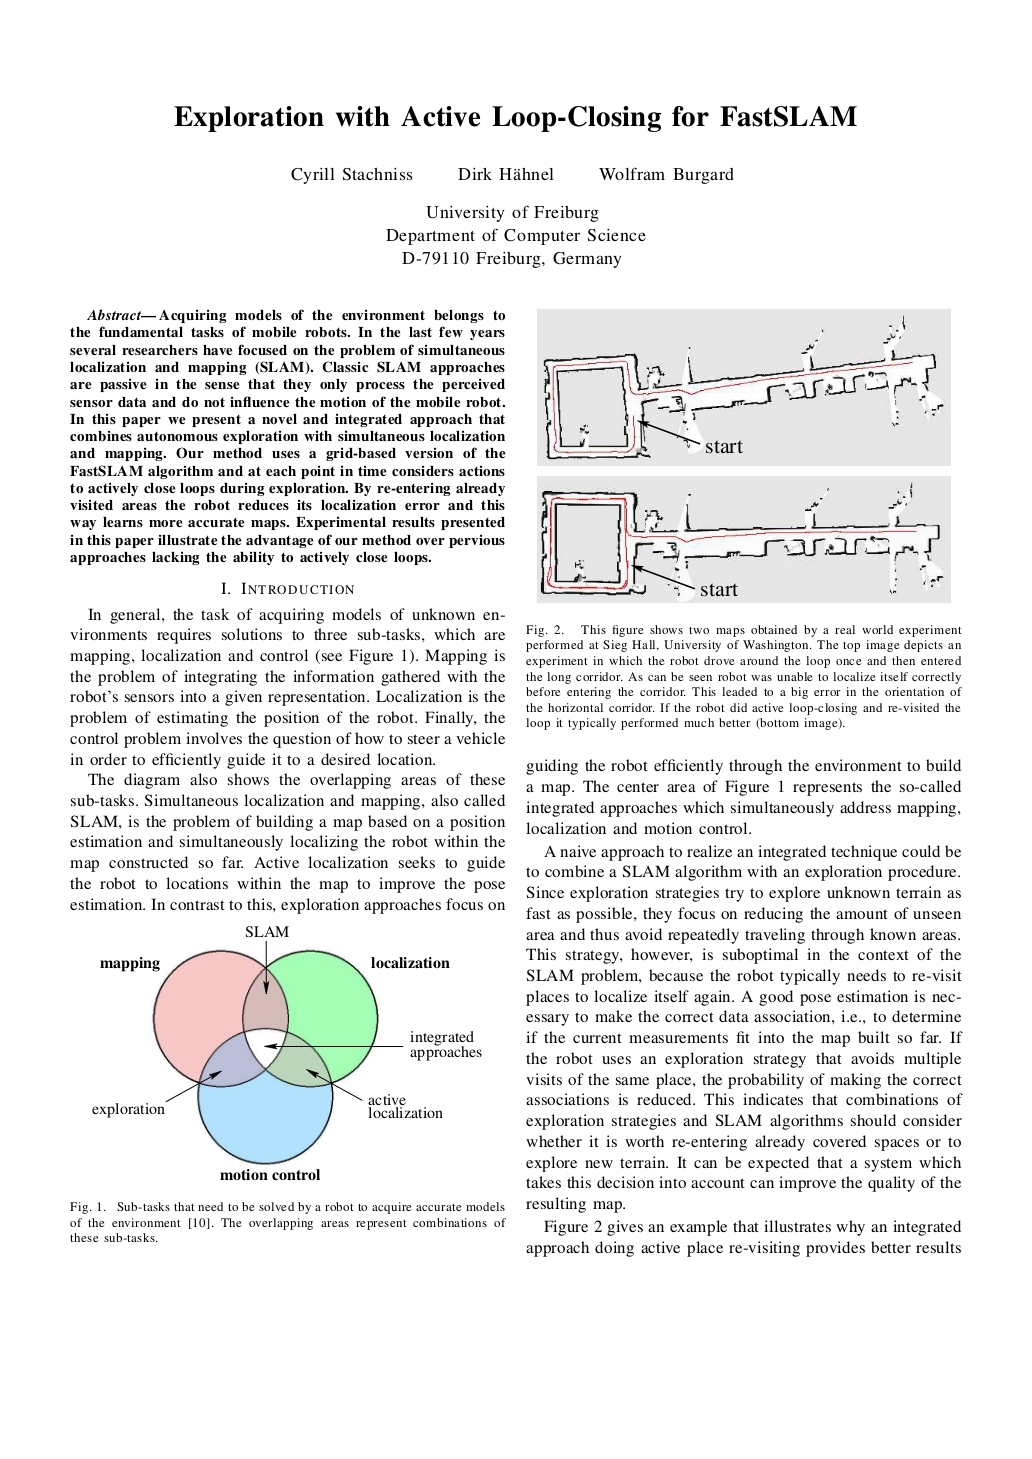figure: (92, 927, 481, 1180), (537, 308, 950, 465), (537, 476, 950, 603)
